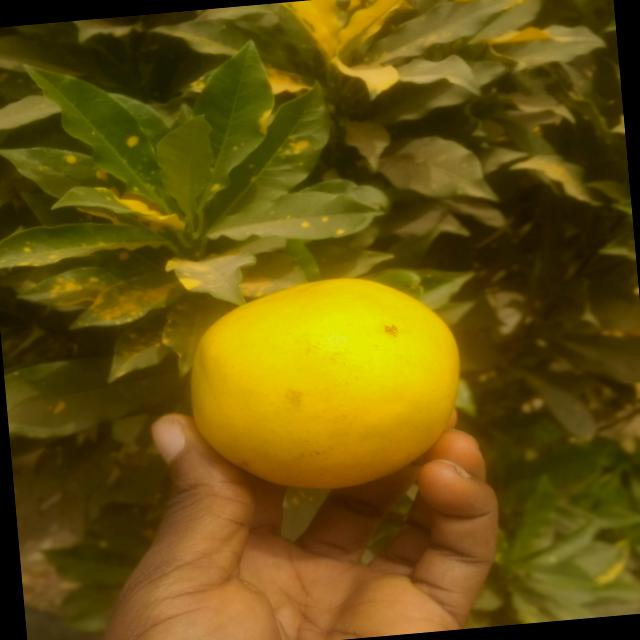Ripe orange: (178, 267, 472, 496)
